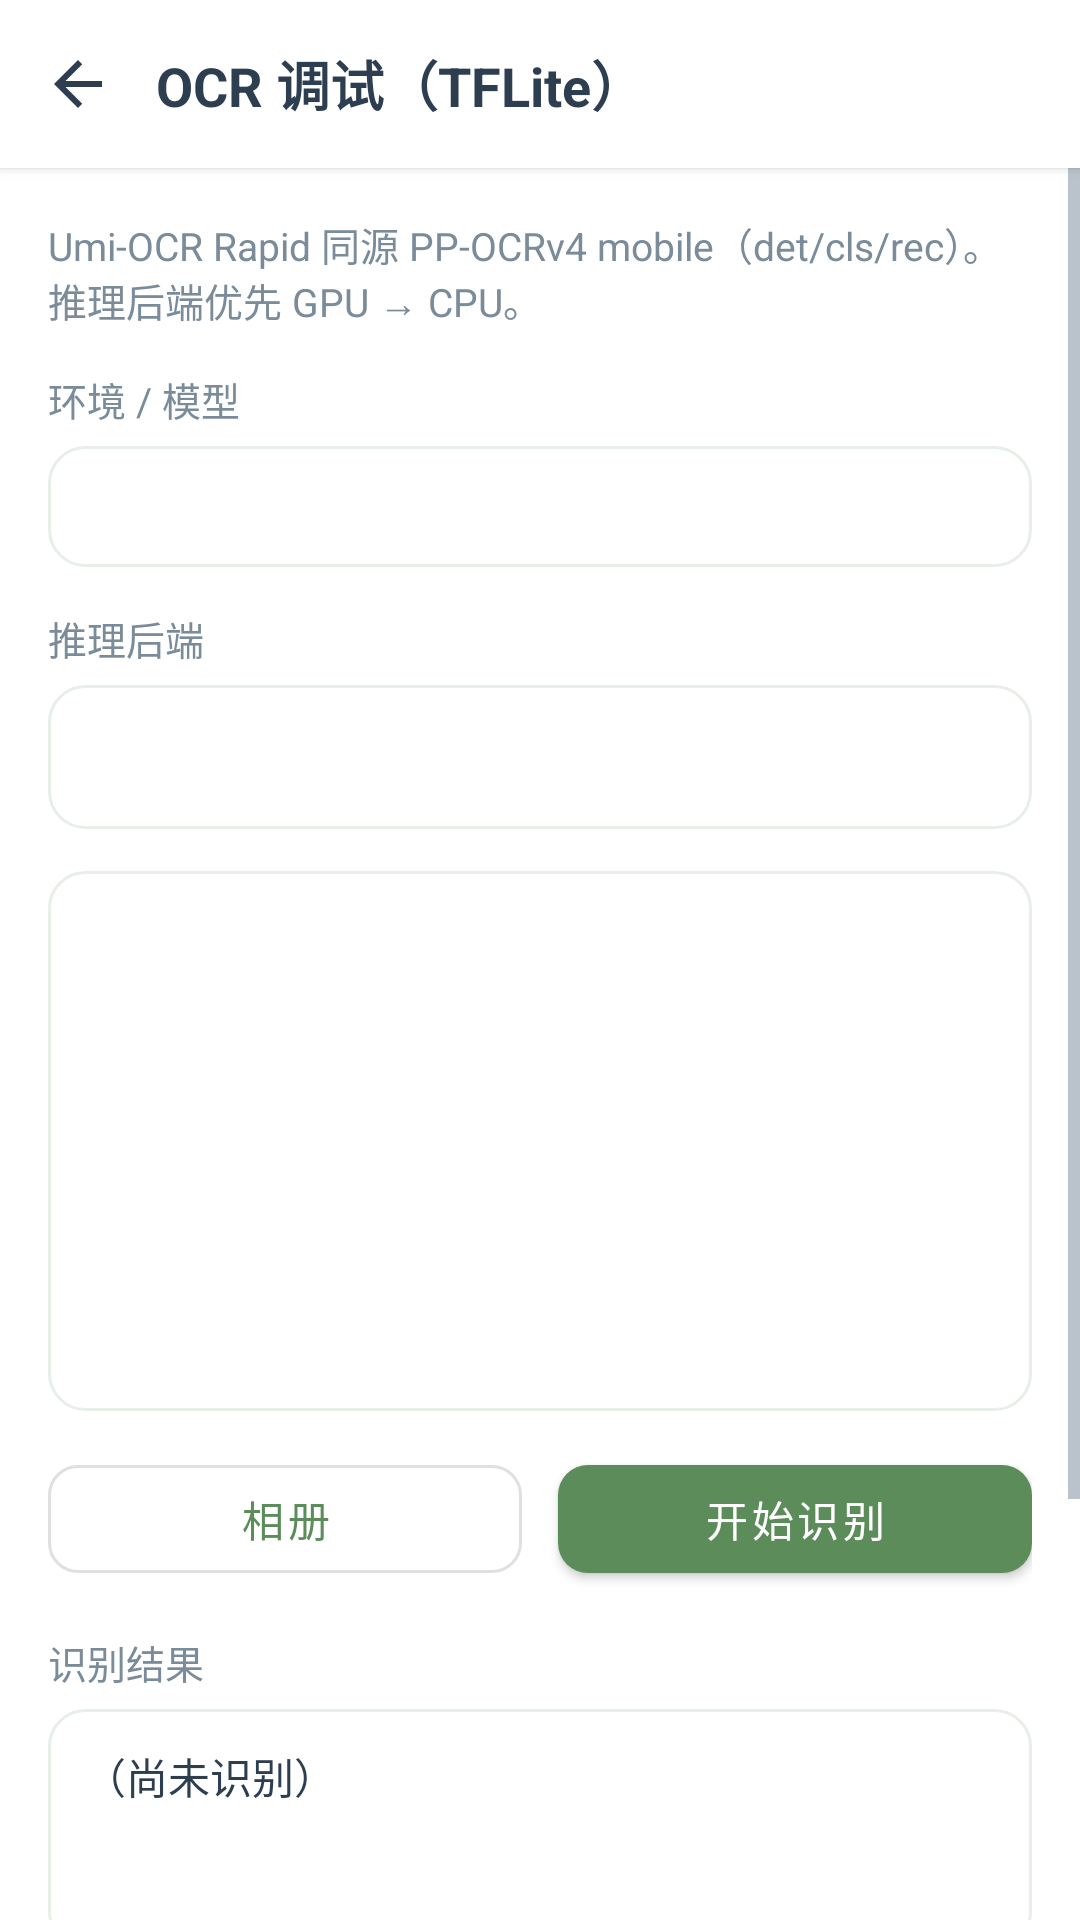

Point at icon controls on the screen. Image size 1080 × 1920, points as (x,y).
返回: (78,84)
